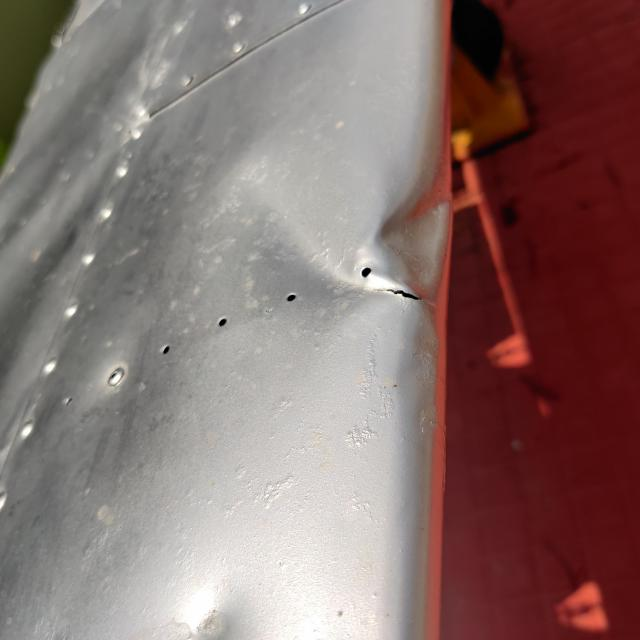crack: (365, 275, 433, 316)
dent: (226, 143, 480, 337)
